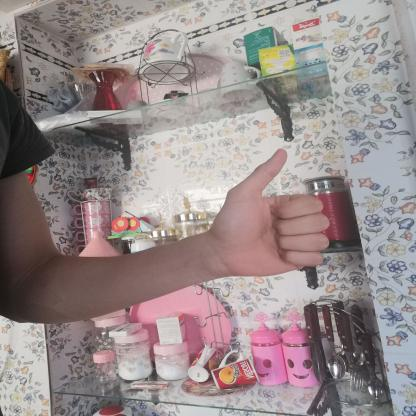ALIF: (188, 141, 341, 287)
